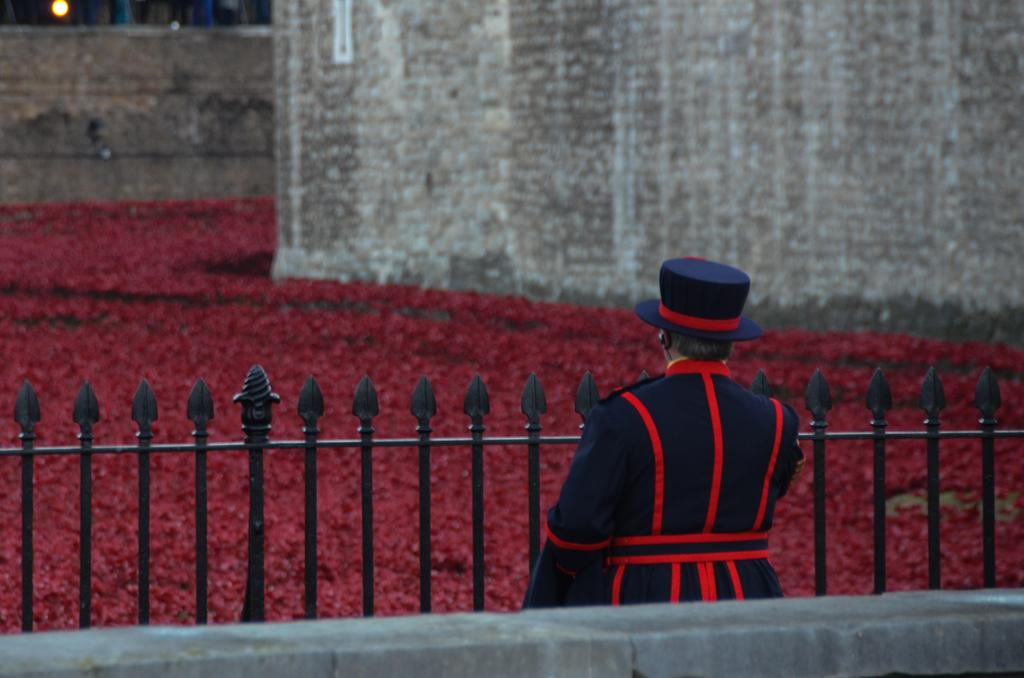Hat: (640, 253, 762, 341)
